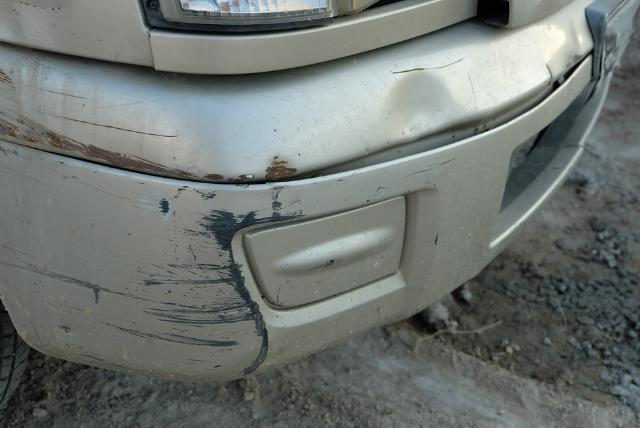Bumper: (0, 72, 640, 314)
